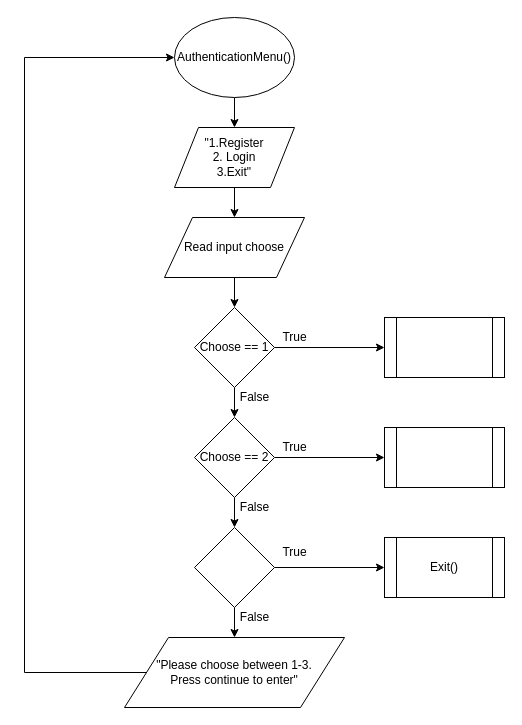
The diagram is 522 pixels wide and 725 high, and some of its shapes have lost their labels. Each missing label, with the centre of its shape:
"Choose == 3" goes at (234,567).
"Login()" goes at (444,457).
"Register()" goes at (444,347).
